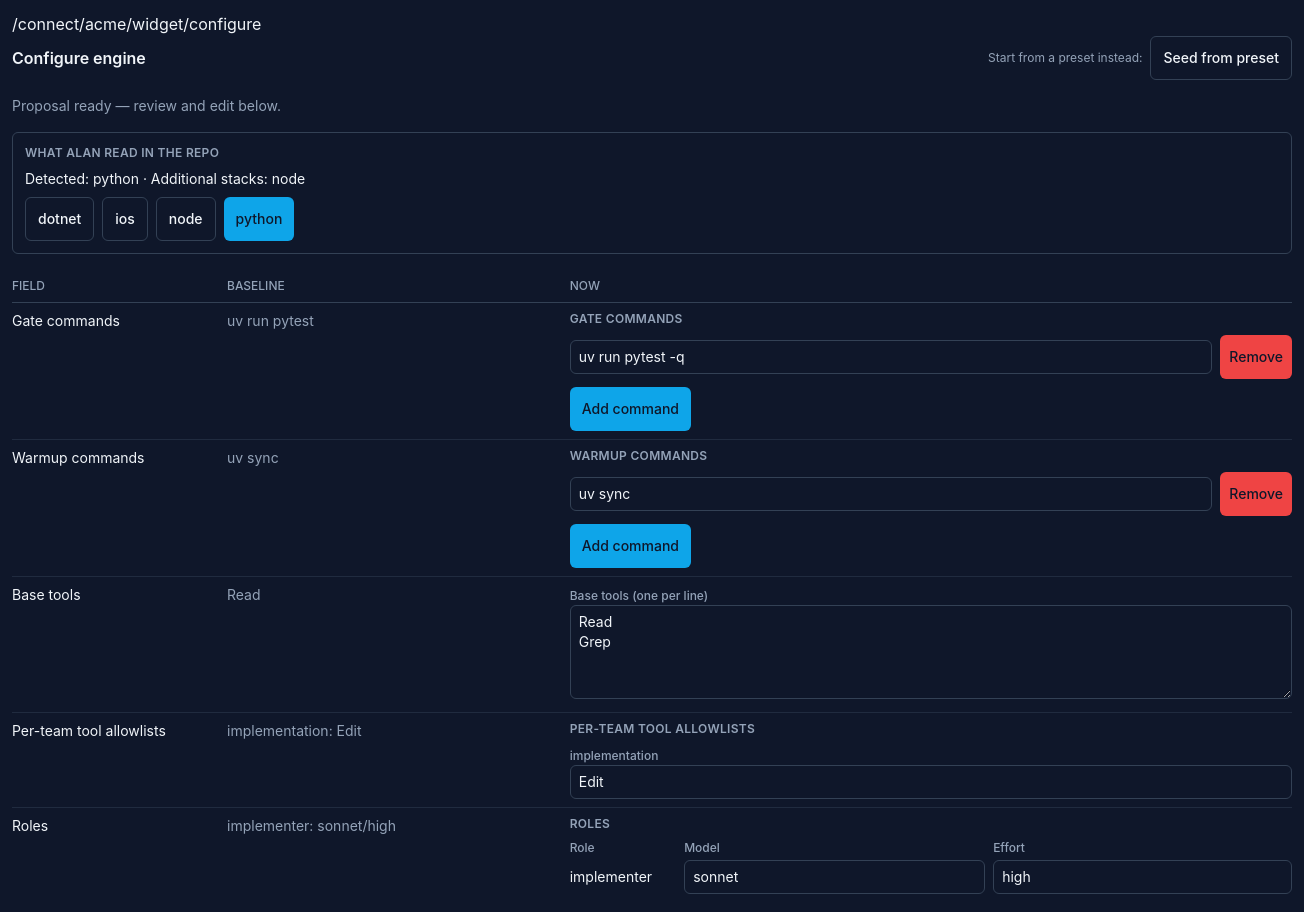
Test: ConnectStep2Configure › a repropose that fails with a non-Finding error renders the generic load-error state
This screenshot has width=1304, height=912.
Click the button with test id "step2-preset-node" at (186, 219), box [156, 197, 216, 241]
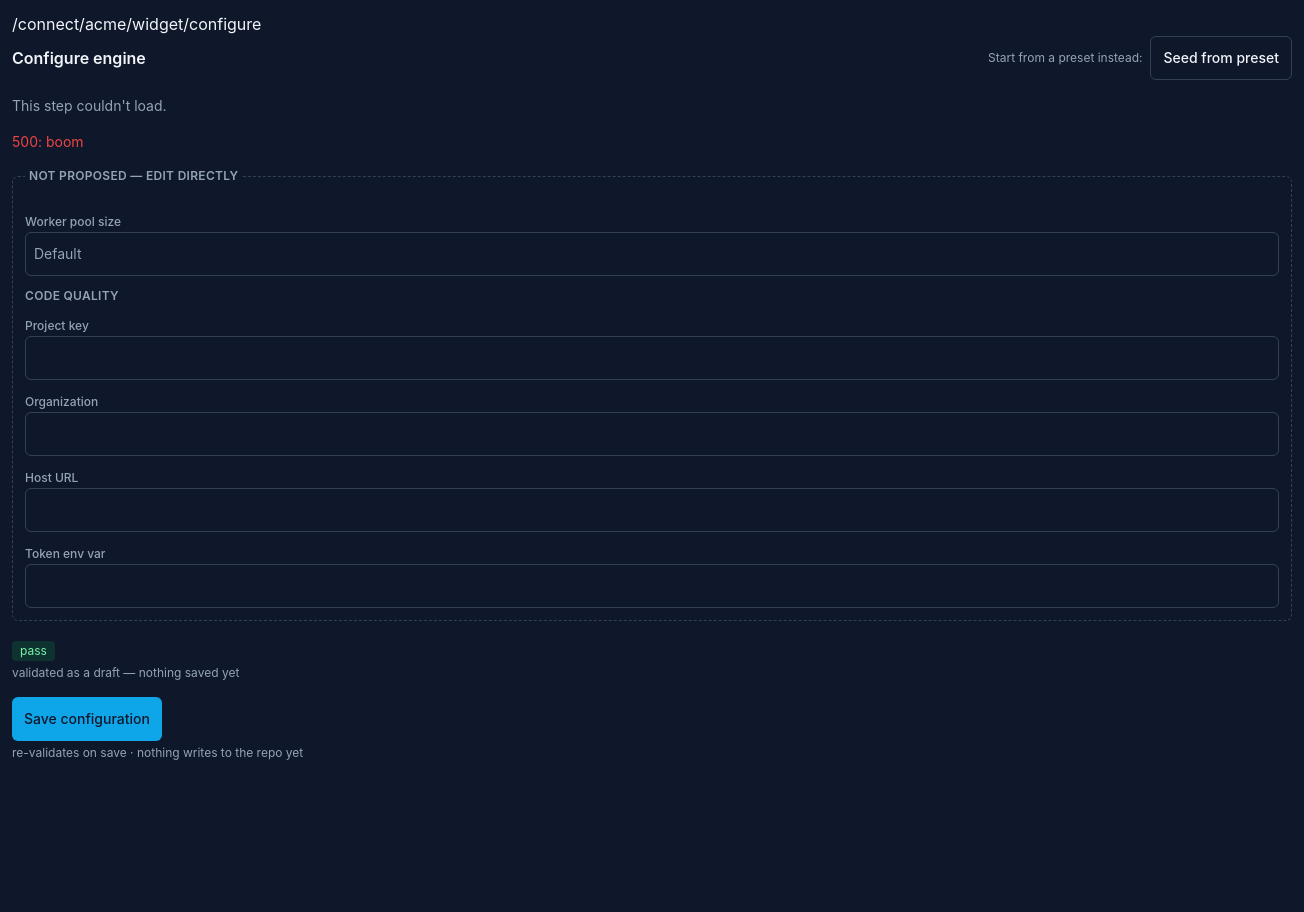
Expected: the message with test id "step2-error" shows "boom", [12, 133, 84, 150]
